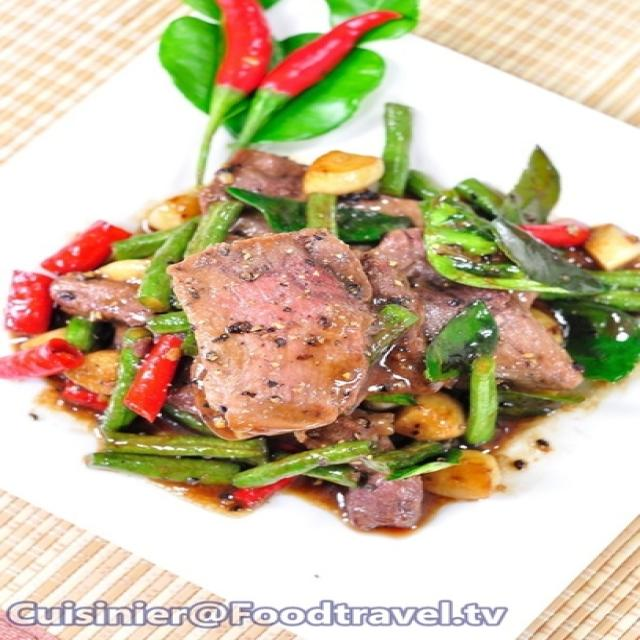牛肉菜式: (30, 36, 627, 578)
